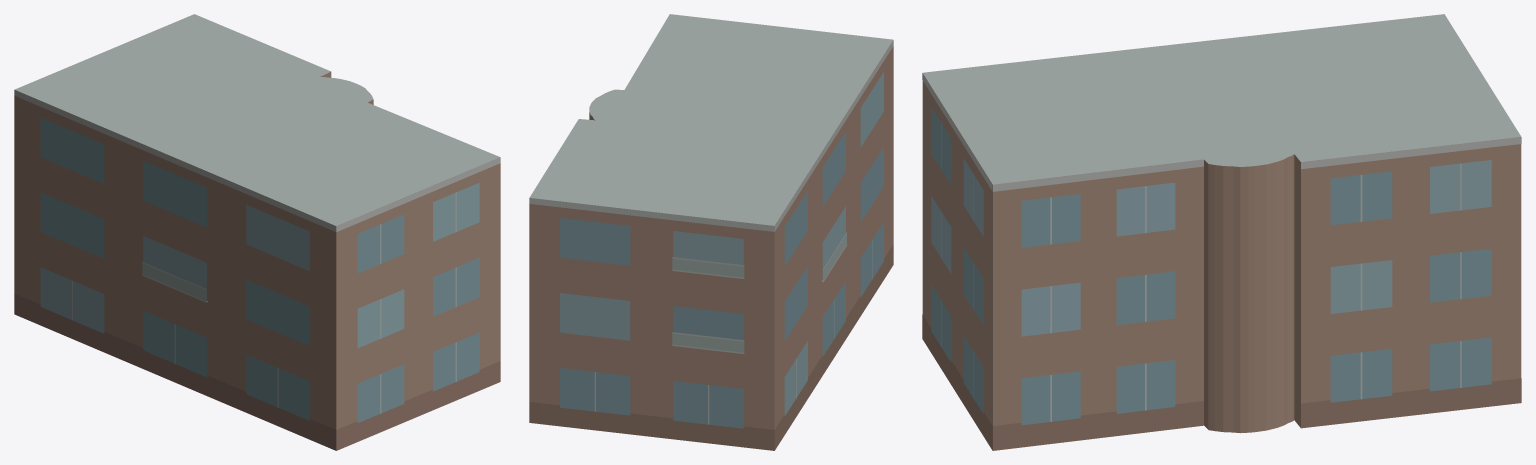
Rendered from survey-upis-32768198.glb.
3 renders of one model, left to right at view 1: azimuth 30°, elevation 25°; view 2: azimuth 150°, elevation 25°; view 3: azimuth 270°, elevation 25°, orthographic. The views are drawn at different scales.
Visible parts, largest first — view 1: survey-upis-32768198.tmp; view 2: survey-upis-32768198.tmp; view 3: survey-upis-32768198.tmp.
Boxes of the visible parts, box(x1,y1,x2,y2) form: survey-upis-32768198.tmp: box(14, 14, 500, 450); survey-upis-32768198.tmp: box(529, 14, 893, 450); survey-upis-32768198.tmp: box(922, 14, 1521, 450).
Size of the model in its own units: 12.53 by 9.1 by 18.57.
